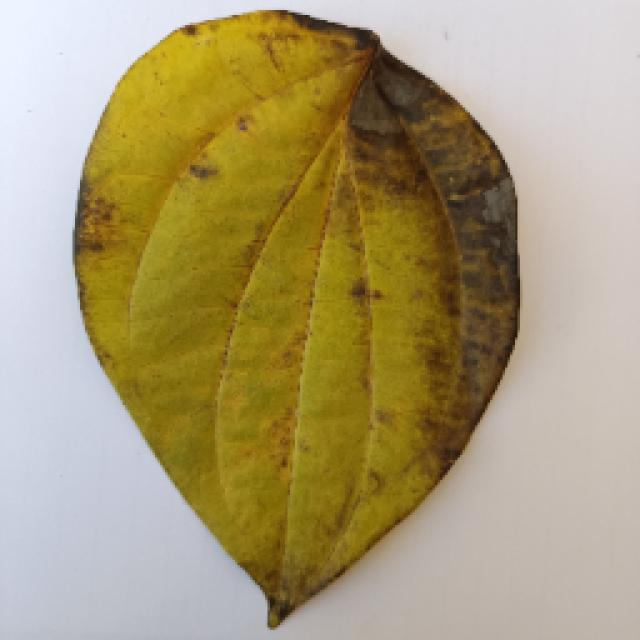slow-decline: (32, 25, 600, 630)
